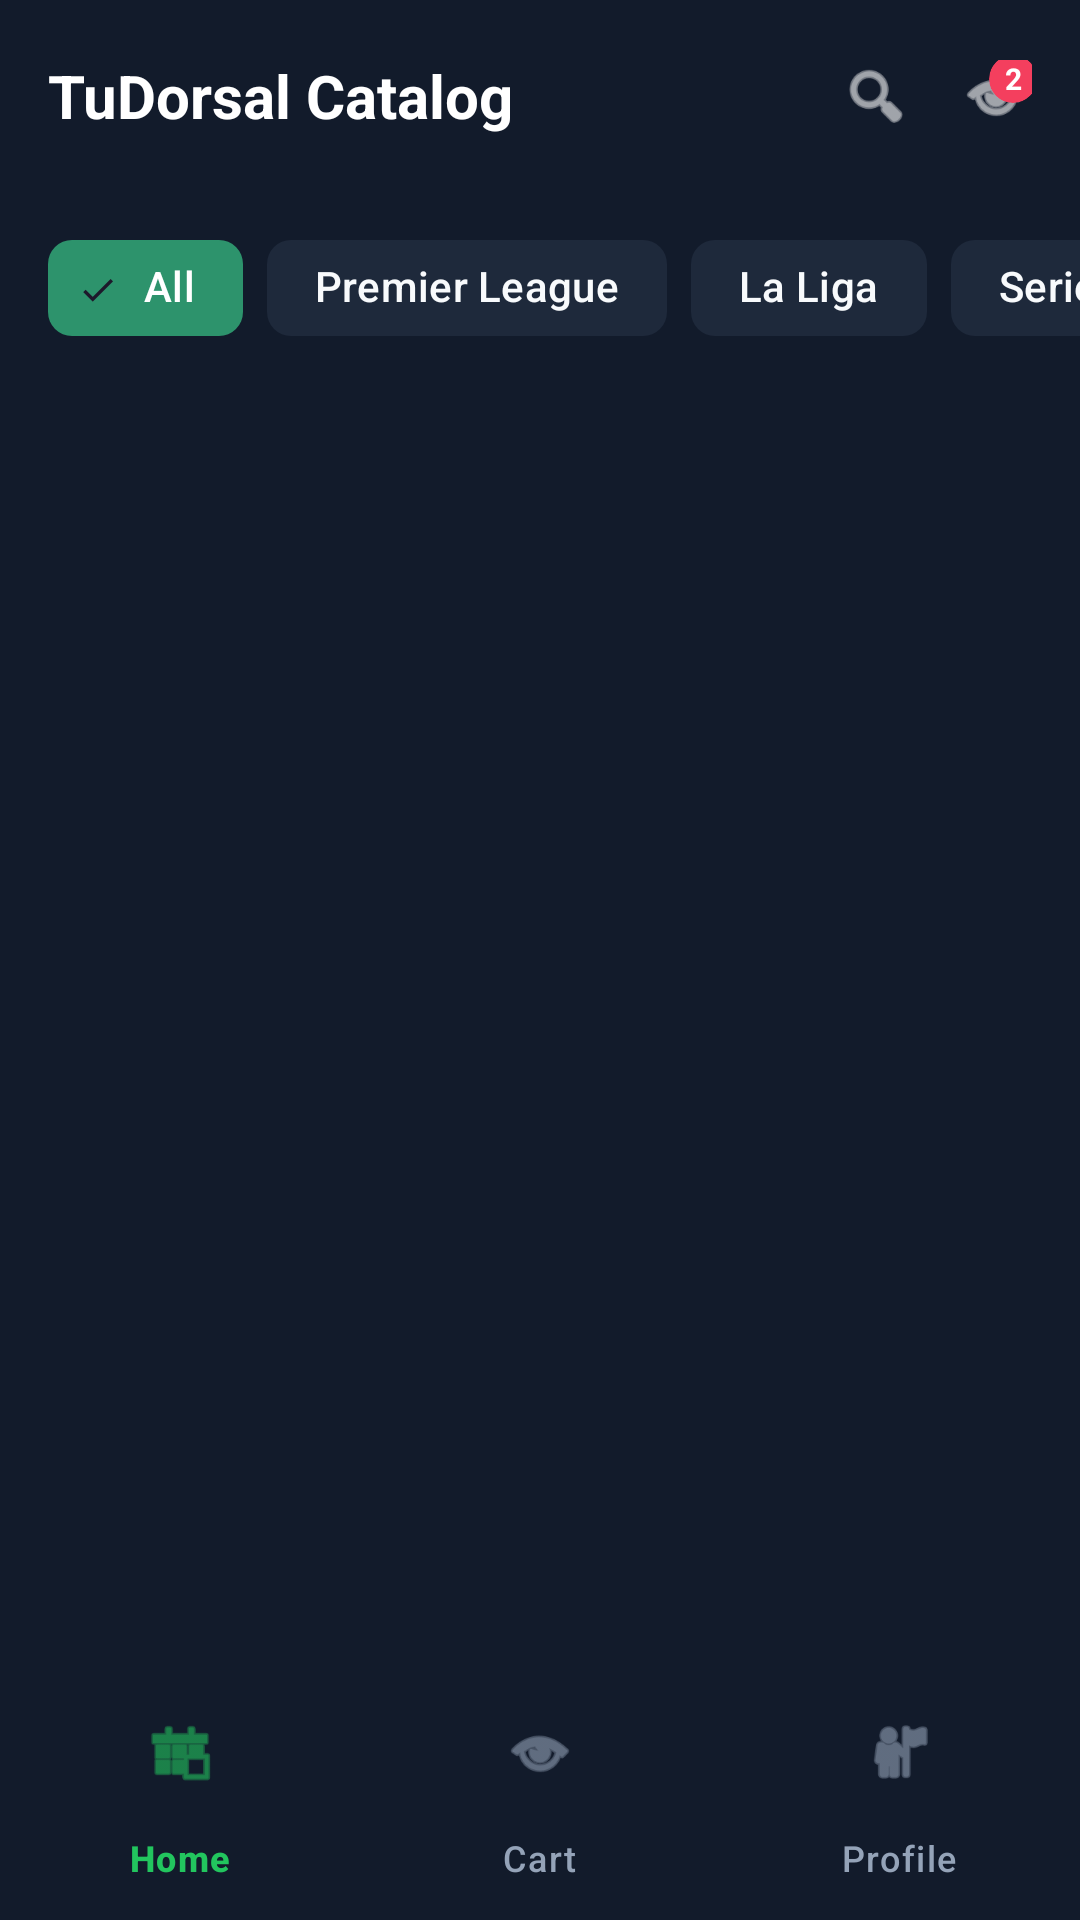

Named icons in this screenshot (1080 × 1920) and their centers, (x=x, y=y):
search: (x=876, y=96)
